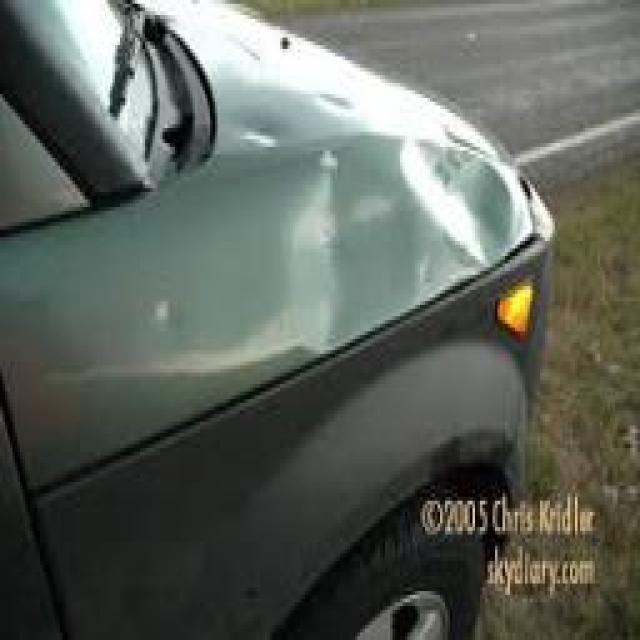Bonnet: (0, 0, 536, 479)
